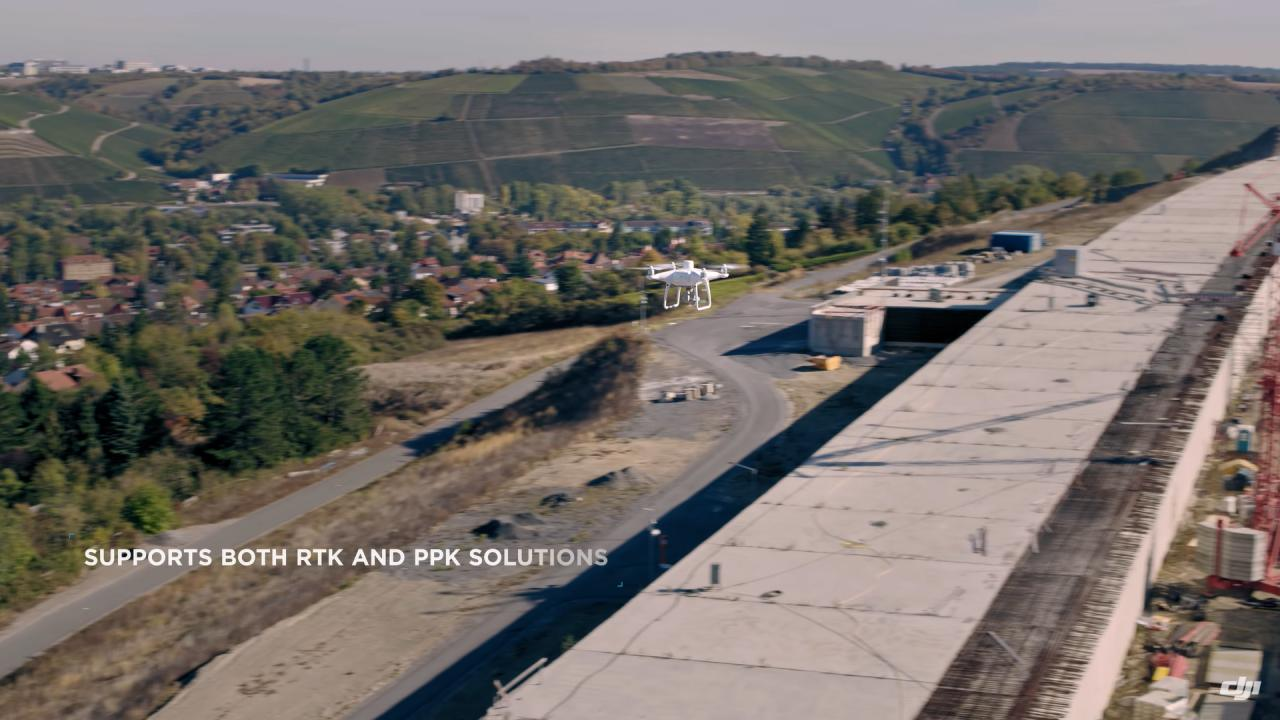Drone: (620, 252, 760, 320)
